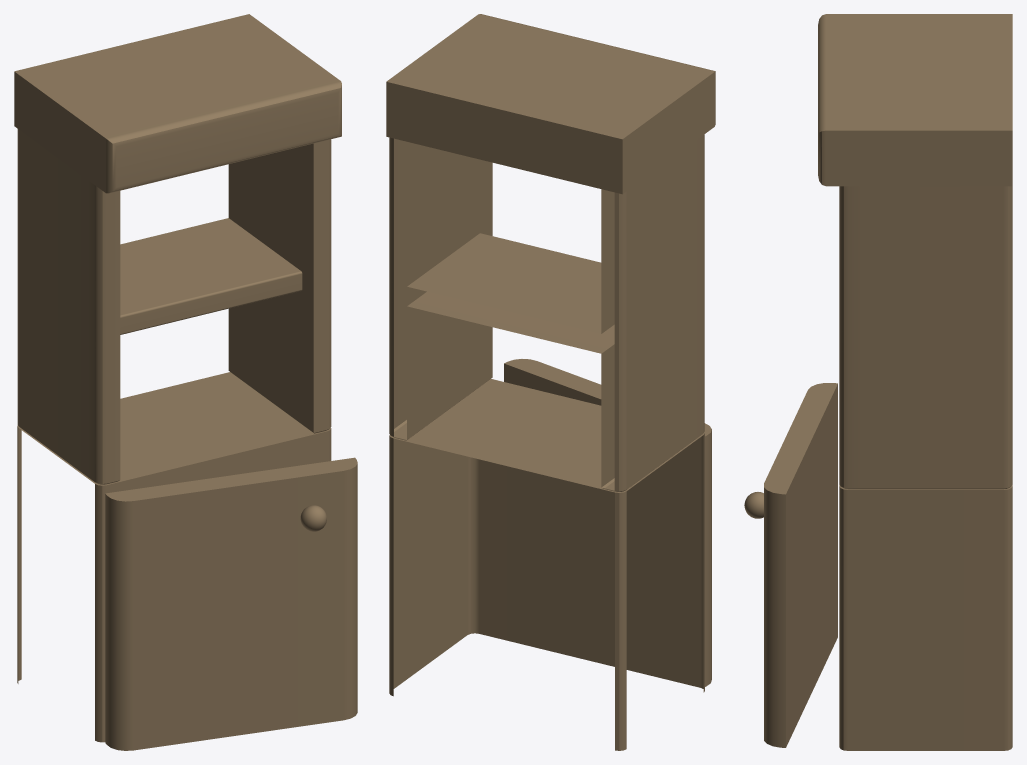
Rendered from bookshelf.fbx.
3 renders of one model, left to right at view 1: azimuth 30°, elevation 25°; view 2: azimuth 150°, elevation 25°; view 3: azimuth 270°, elevation 25°, orthographic.
Parts seen in each view (by area): view 1: bookshelfshelves, bookshelfdoor, bookshelftop, bookshelfbase, bookshelfhandle; view 2: bookshelfbase, bookshelfshelves, bookshelftop, bookshelfdoor; view 3: bookshelfshelves, bookshelfbase, bookshelftop, bookshelfdoor, bookshelfhandle.
Boxes of the visible parts, box(x1,y1,x2,y2) form: bookshelfshelves: box(17, 129, 331, 484); bookshelfdoor: box(105, 457, 357, 750); bookshelftop: box(14, 14, 341, 193); bookshelfbase: box(17, 372, 331, 742); bookshelfhandle: box(300, 505, 326, 531); bookshelfbase: box(389, 379, 704, 750); bookshelfshelves: box(389, 134, 704, 491); bookshelftop: box(386, 14, 715, 194); bookshelfdoor: box(504, 359, 711, 686); bookshelfshelves: box(839, 186, 1012, 489); bookshelfbase: box(839, 485, 1012, 750); bookshelftop: box(818, 14, 1012, 186); bookshelfdoor: box(764, 383, 837, 747); bookshelfhandle: box(744, 492, 763, 518).
Size of the model in its own units: 2.44 by 6.03 by 2.36.
